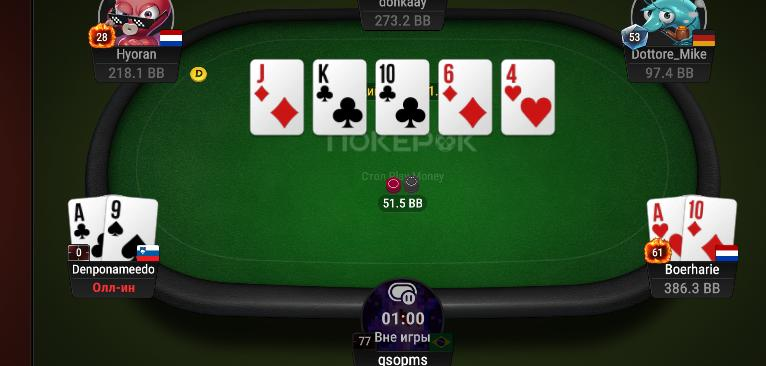10c: (377, 60, 429, 134)
10d: (683, 196, 734, 259)
4h: (502, 59, 554, 133)
6d: (438, 60, 490, 134)
9s: (106, 194, 157, 259)
Ac: (68, 197, 105, 262)
Ah: (647, 198, 683, 260)
Jd: (251, 61, 304, 134)
Kc: (313, 61, 366, 133)
